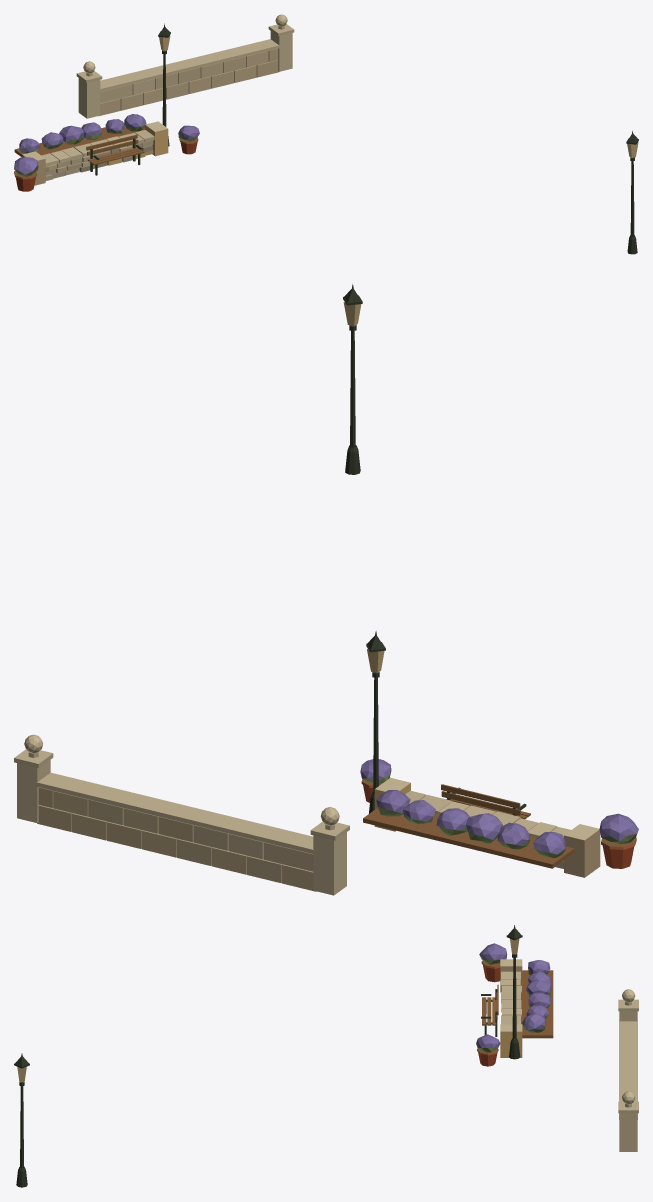
The model's file is props.glb.
3 views of the same model, one above another, from view 1: azimuth 30°, elevation 25°; view 2: azimuth 150°, elevation 25°; view 3: azimuth 270°, elevation 25° (orthographic). The views are drawn at different scales.
Parts seen in each view (by area): view 1: props; view 2: props; view 3: props.
Boxes of the visible parts, box(x1,y1,x2,y2) form: props: box(14, 14, 638, 254); props: box(14, 284, 638, 895); props: box(14, 925, 638, 1187).
Size of the model in its own units: 15.28 by 4.46 by 18.65.
